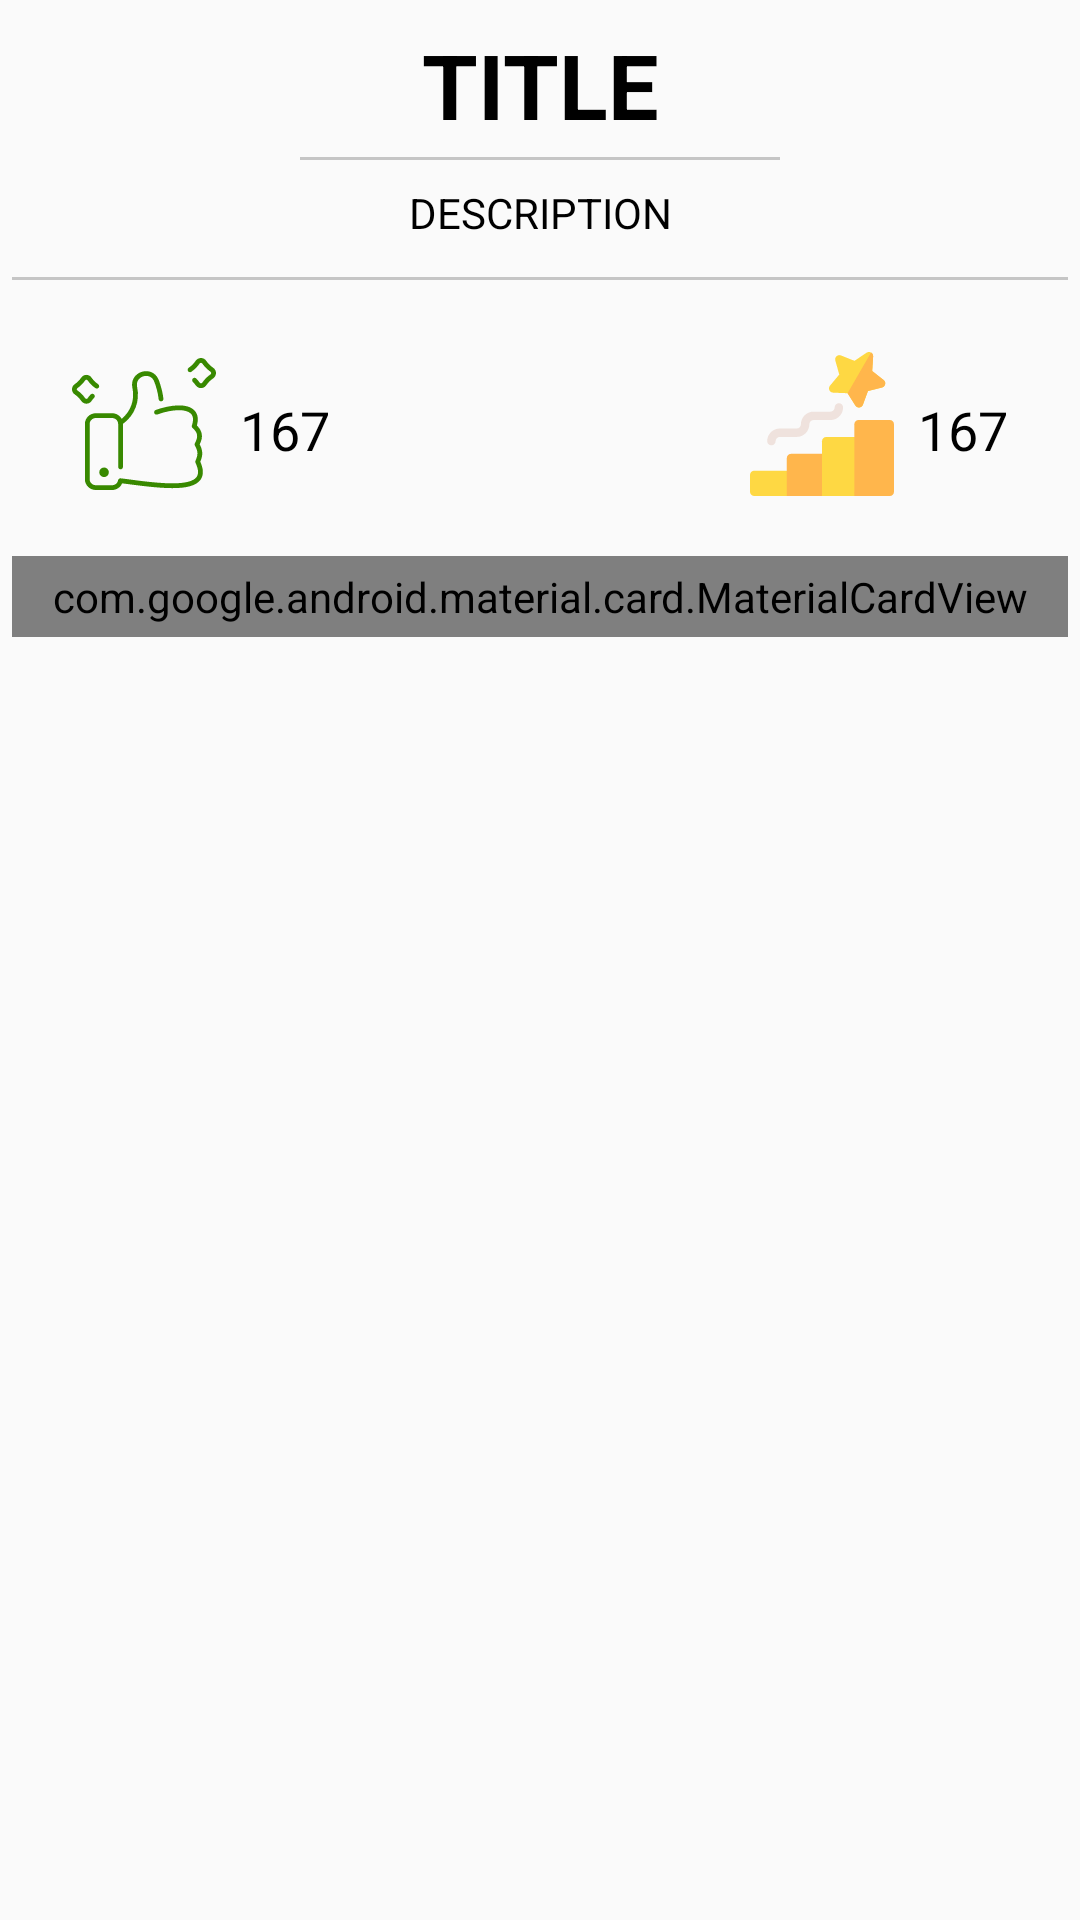

Screen size 1080w x 1920h. Icon name, then its box in pixels as (x1,y1,x2,y2):
popularity: (750,352,894,496)
thumb up: (72,358,216,490)
